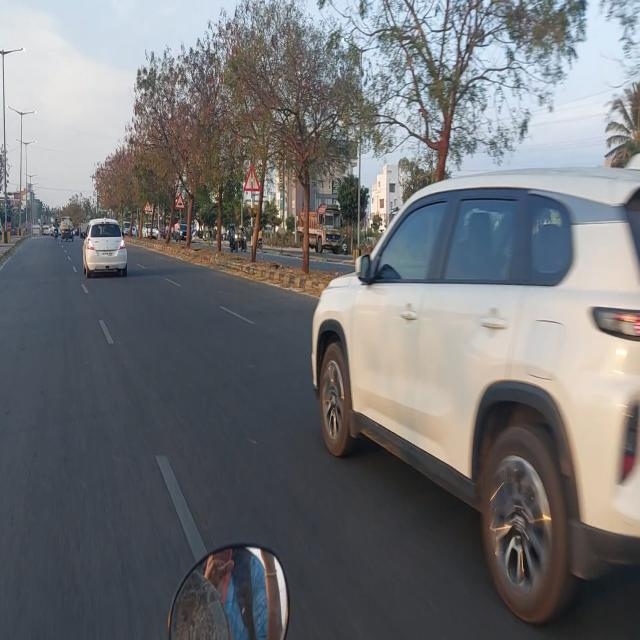bien_cam: (243, 162, 260, 193), (175, 192, 185, 210), (143, 198, 153, 212)
